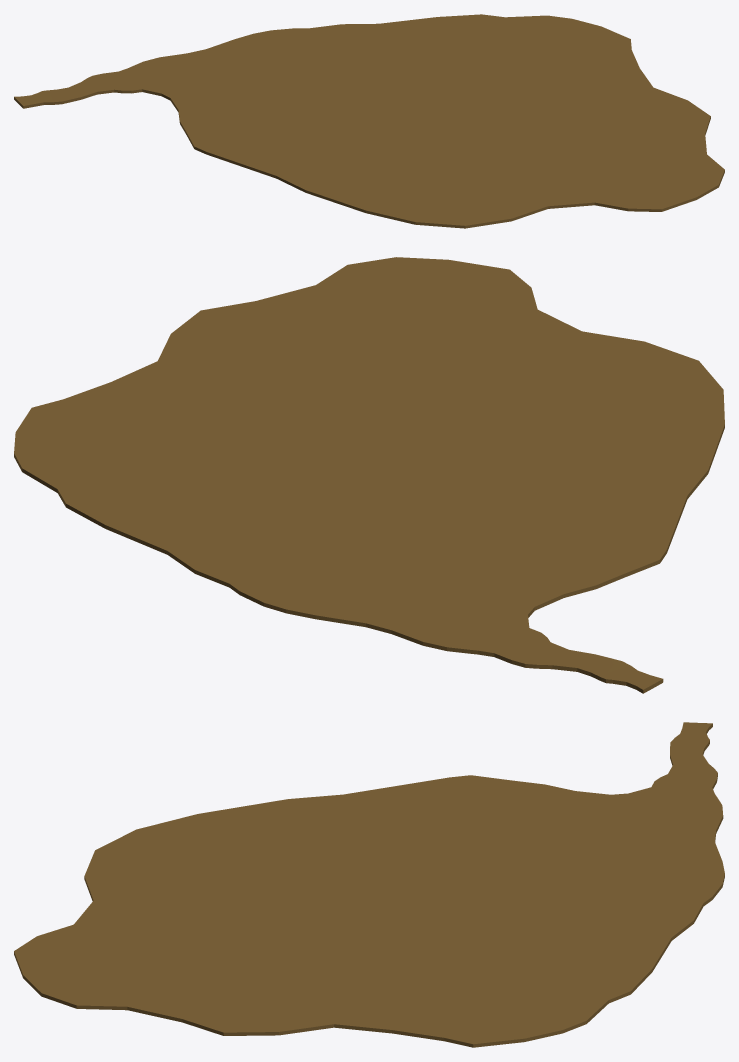
File: Chão Jogável 2.fbx
3 views of the same model, one above another, from view 1: azimuth 30°, elevation 25°; view 2: azimuth 150°, elevation 25°; view 3: azimuth 270°, elevation 25° (orthographic). The views are drawn at different scales.
Visible parts, largest first — view 1: Chão Jogável 2; view 2: Chão Jogável 2; view 3: Chão Jogável 2.
Boxes of the visible parts, box(x1,y1,x2,y2) form: Chão Jogável 2: box(14, 14, 724, 228); Chão Jogável 2: box(14, 257, 724, 693); Chão Jogável 2: box(14, 722, 724, 1047).
Size of the model in its own units: 18323 by 103 by 17080.
